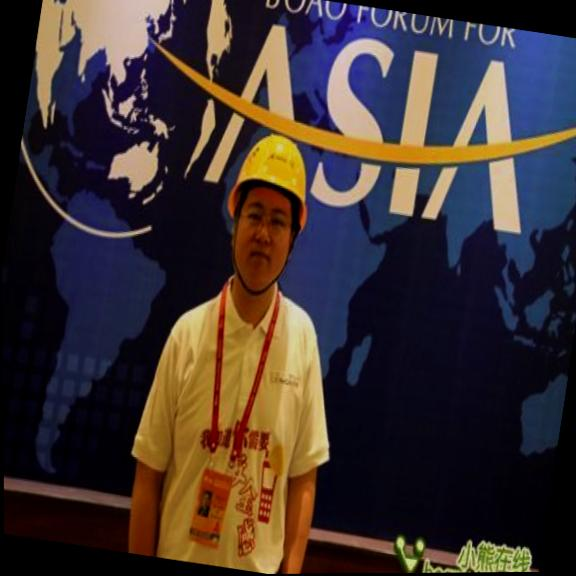no_safety_vest: (121, 298, 335, 575)
